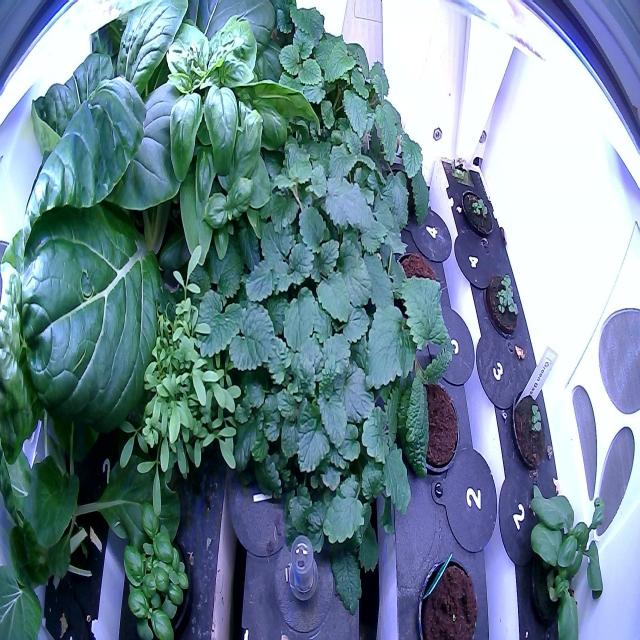germination: (506, 383, 553, 478), (481, 266, 525, 342), (456, 182, 498, 246)
pod: (399, 371, 465, 481), (413, 549, 481, 639)
